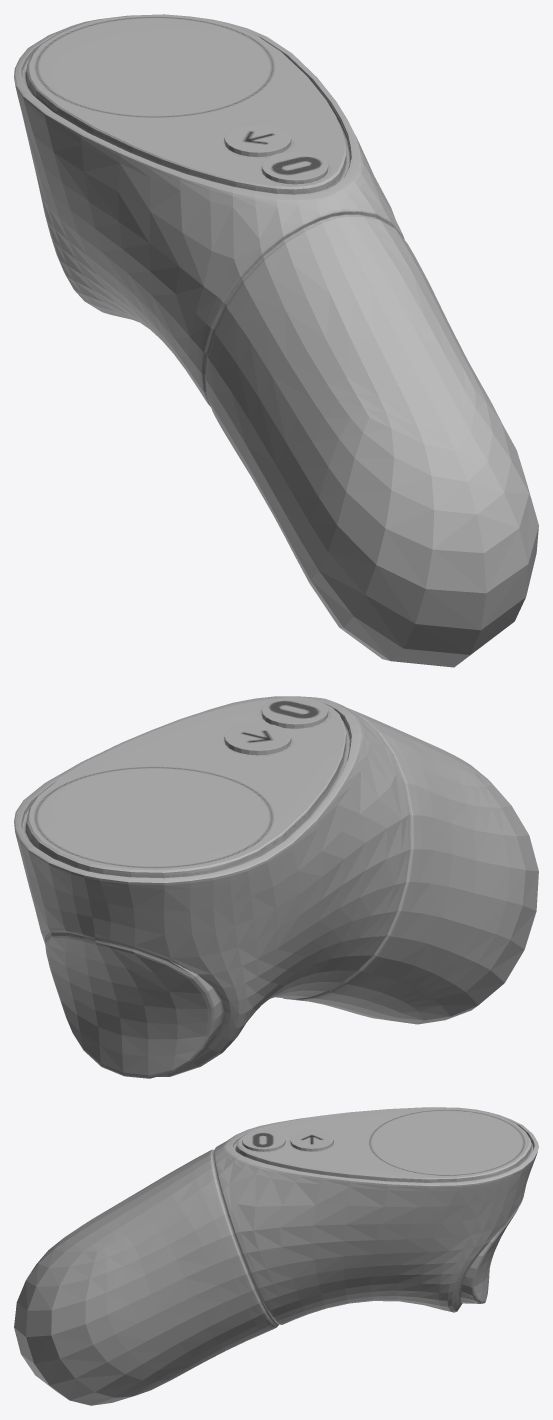
File: vr_controller_oculusgo.OBJ
The picture shows the model from 3 angles, top to bottom: view 1: azimuth 30°, elevation 25°; view 2: azimuth 150°, elevation 25°; view 3: azimuth 270°, elevation 25°; orthographic projection. The views are drawn at different scales.
Visible parts, largest first — view 1: vr_controller_oculusgo; view 2: vr_controller_oculusgo; view 3: vr_controller_oculusgo.
Part boxes in pixels (box(x1,y1,x2,y2)): vr_controller_oculusgo: box(14, 14, 538, 667); vr_controller_oculusgo: box(14, 696, 538, 1078); vr_controller_oculusgo: box(14, 1107, 538, 1405).
Bounding box in the file's own units: 0.0615 × 0.0942 × 0.1728.
Materials: 1 (1 with a texture image).
